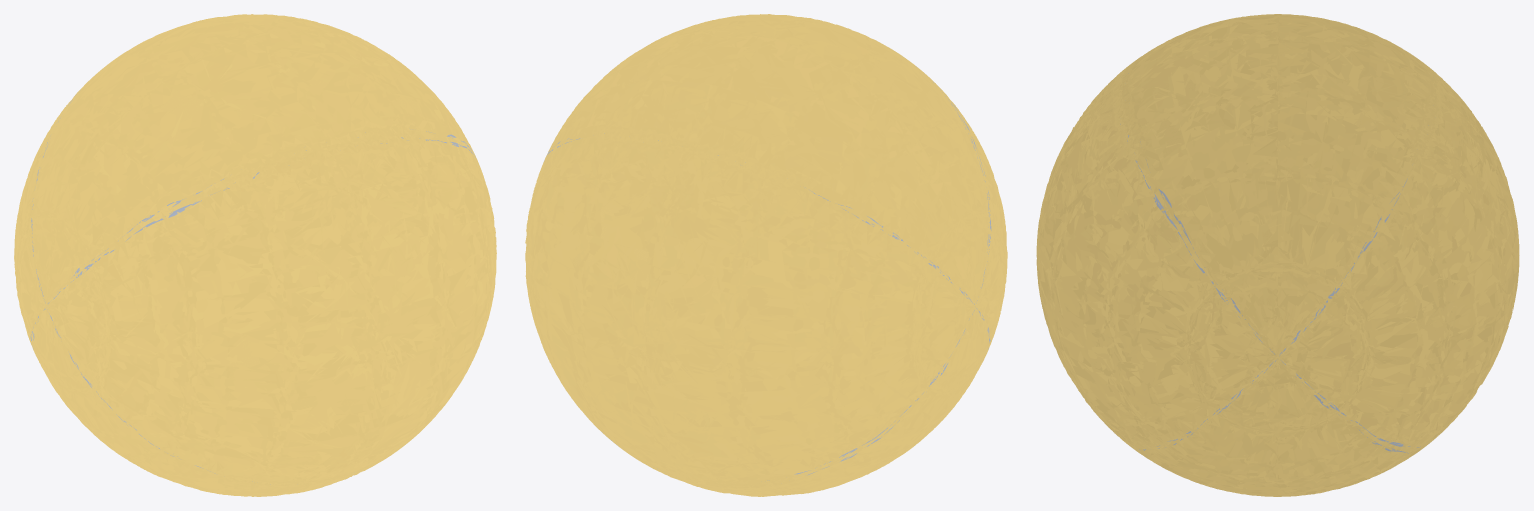
File: dg-south-A.glb
The picture shows the model from 3 angles, left to right: view 1: azimuth 30°, elevation 25°; view 2: azimuth 150°, elevation 25°; view 3: azimuth 270°, elevation 25°; orthographic projection.
Visible parts, largest first — view 1: anodes, structure; view 2: anodes, structure; view 3: anodes, structure.
Boxes of the visible parts, bbox=[...] form: anodes: bbox=[14, 14, 496, 496]; structure: bbox=[30, 94, 475, 484]; anodes: bbox=[525, 14, 1007, 496]; structure: bbox=[544, 66, 991, 480]; anodes: bbox=[1036, 14, 1519, 496]; structure: bbox=[1120, 73, 1428, 453].
Size of the model in its own units: 2 by 2 by 2.
